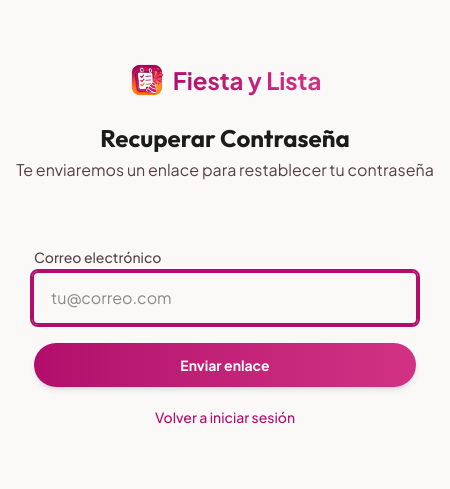
Test case: ForgotPassword › shows success state after submitting email
Step 1. Type "user@test.com" into the field with placeholder "tu@correo.com" → (225, 298), box [34,273,416,323]
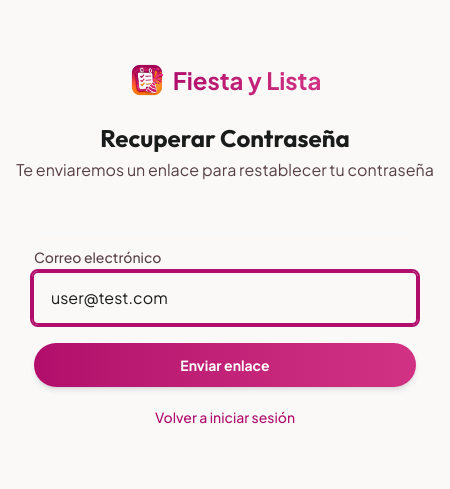
Step 2. Click the button "Enviar enlace" → (225, 365), box [34,343,416,387]
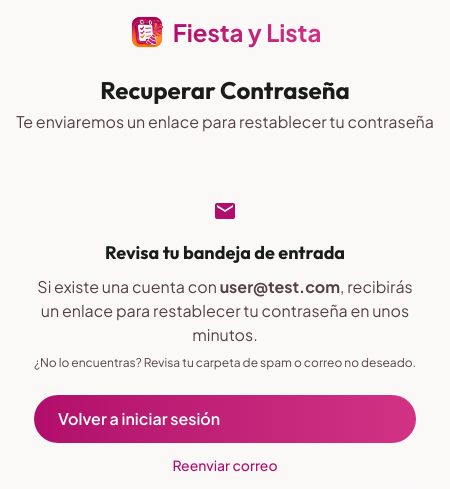
Check: the link "Volver a iniciar sesión" is shown, box [34,395,416,443]
Check: the heading "Revisa tu bandeja de entrada" is shown, box [105,241,345,264]
